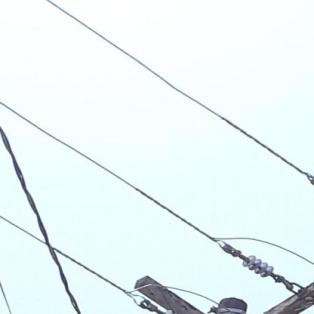Poste: (132, 288, 255, 314)
